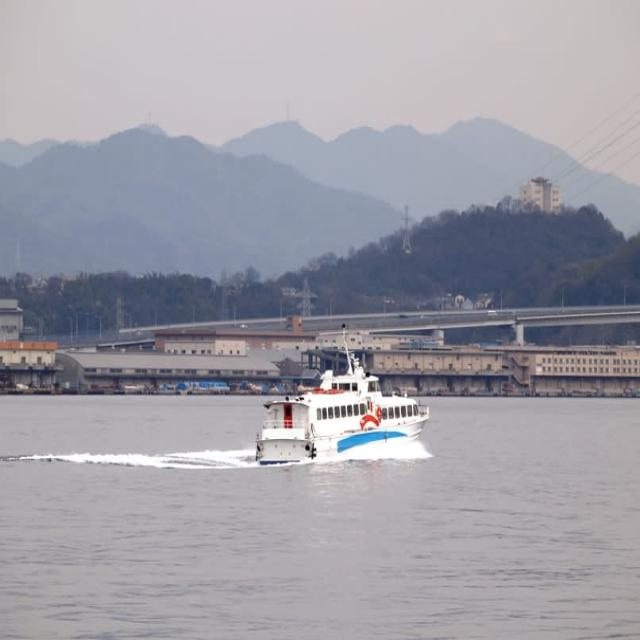houseboat: (234, 350, 462, 508)
